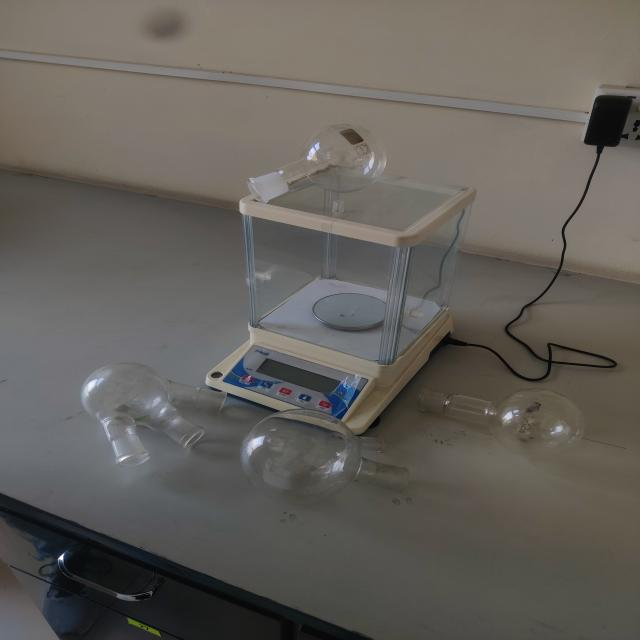Round_Bottom_Flask_Borosilicate_Glass_1_Neck: (192, 102, 451, 236), (399, 344, 606, 470)
Round_Bottom_Flask_Borosilicate_Glass_2_Neck: (241, 394, 439, 519)
Round_Bottom_Flask_Borosilicate_Glass_3_Neck: (52, 334, 258, 470)
